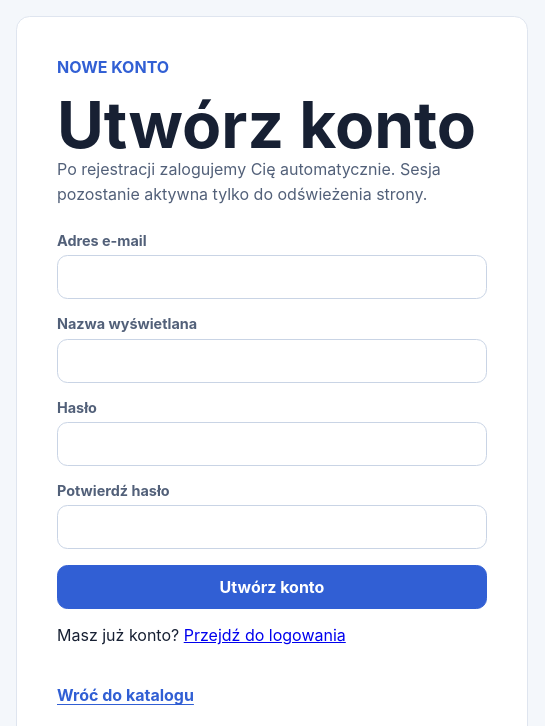
Test case: RegisterPage › requires manual login after a successful registration when automatic login fails
In the field labelled "Adres e-mail": [272, 277] box [57, 255, 487, 299], type "user@example.com"
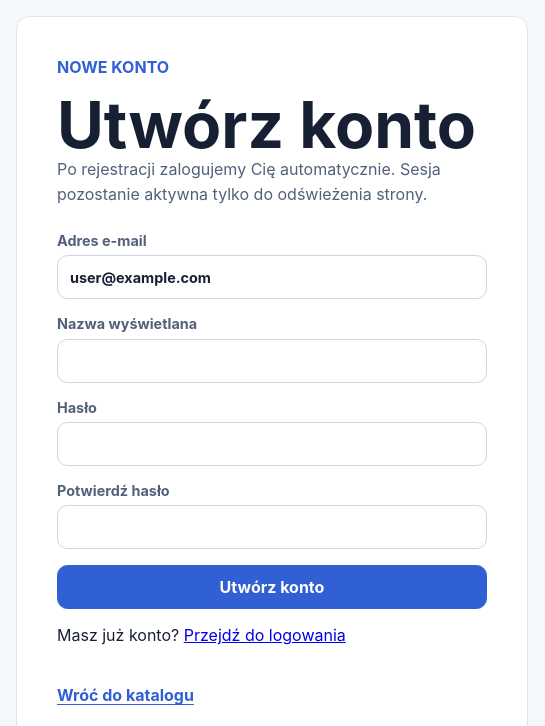
In the field labelled "Nazwa wyświetlana": [272, 361] box [57, 339, 487, 383], type " Tomasz "
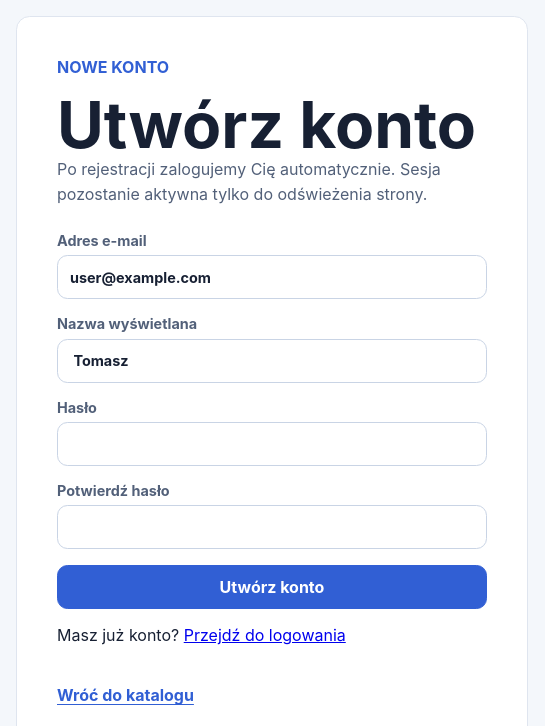
In the password field labelled "Hasło": [272, 444] box [57, 422, 487, 466], type "Correct-Horse-42"
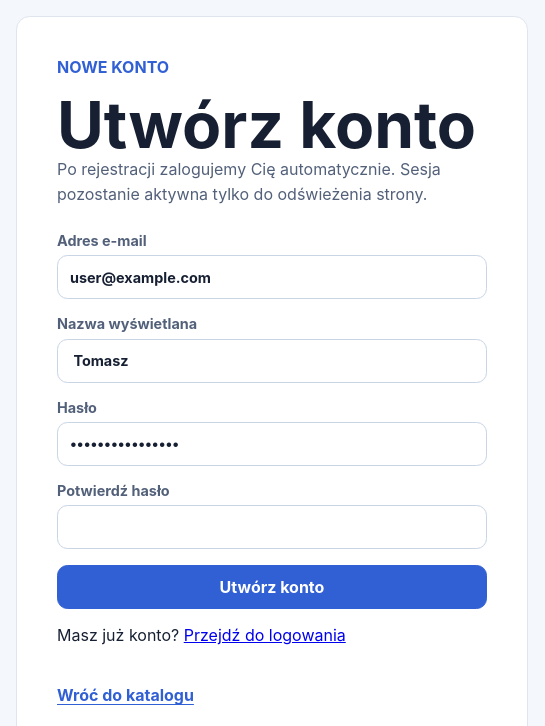
In the password field labelled "Potwierdź hasło": [272, 527] box [57, 505, 487, 549], type "Correct-Horse-42"
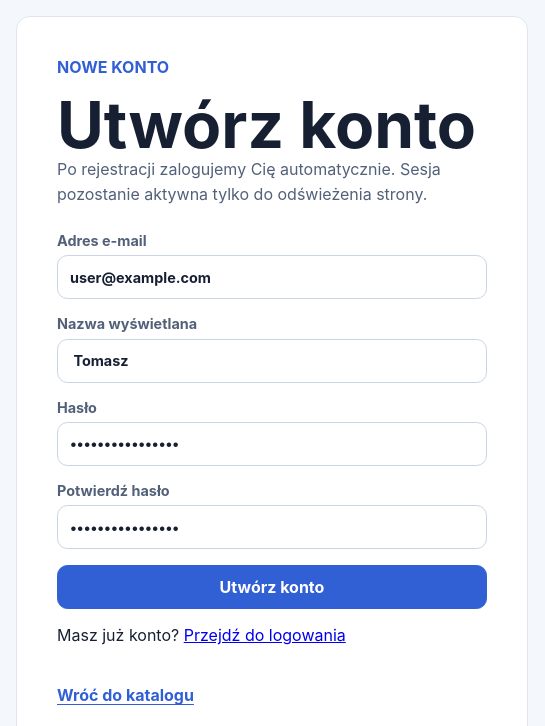
Click the button "Utwórz konto": [272, 587] box [57, 565, 487, 609]
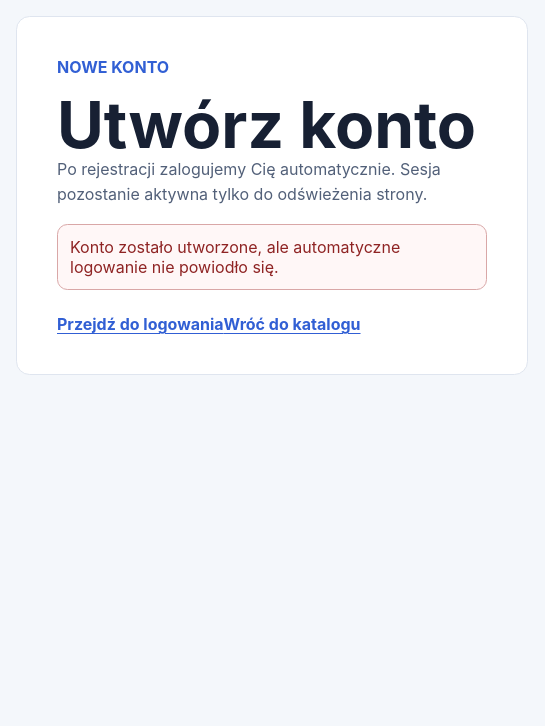
Now the message reads "Konto zostało utworzone, ale automatyczne logowanie nie powiodło się.", box [70, 237, 400, 277]
